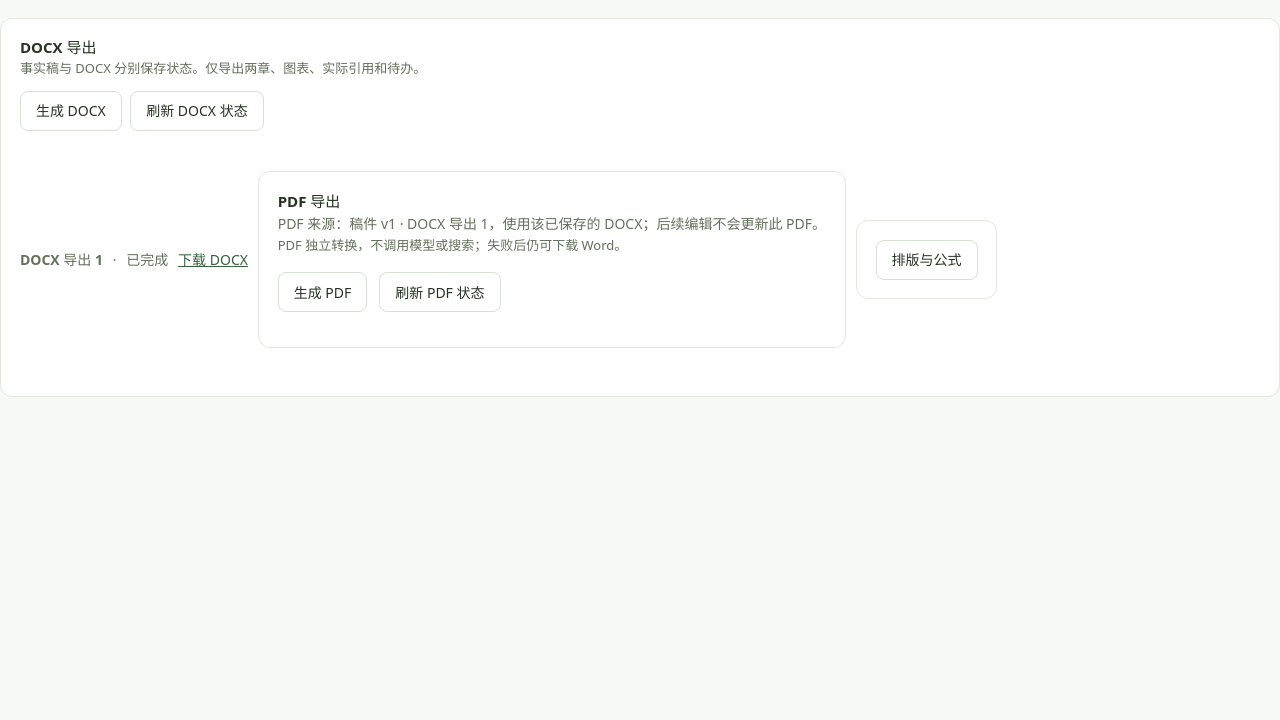
Test: offers PDF only for a successful concrete DOCX export and keeps DOCX after independent PDF failure
Expected: the link "下载 DOCX" is shown, [178,248,248,271]
Click the button "生成 PDF".
click(322, 292)  # box [278,272,367,312]
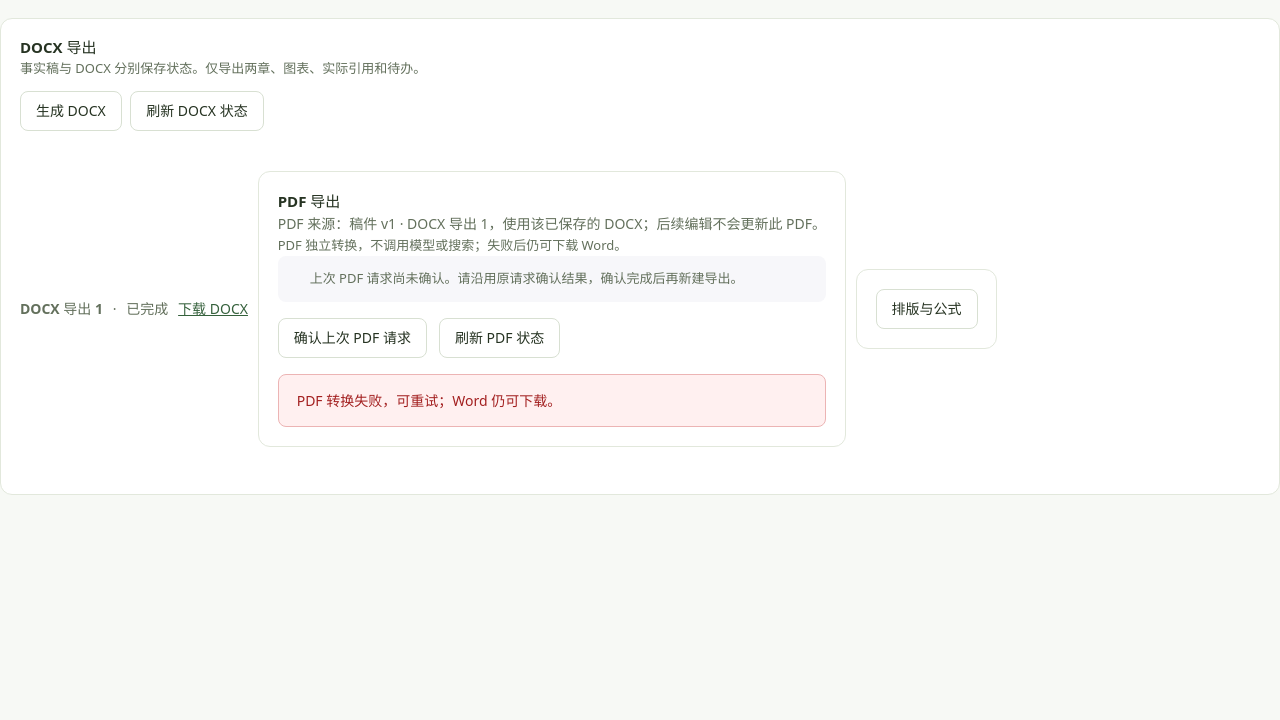
Expected: the link "下载 DOCX" is shown, [178,297,248,320]
Now the message "PDF 转换失败，可重试；Word 仍可下载。" is shown, box [278,374,826,427]
